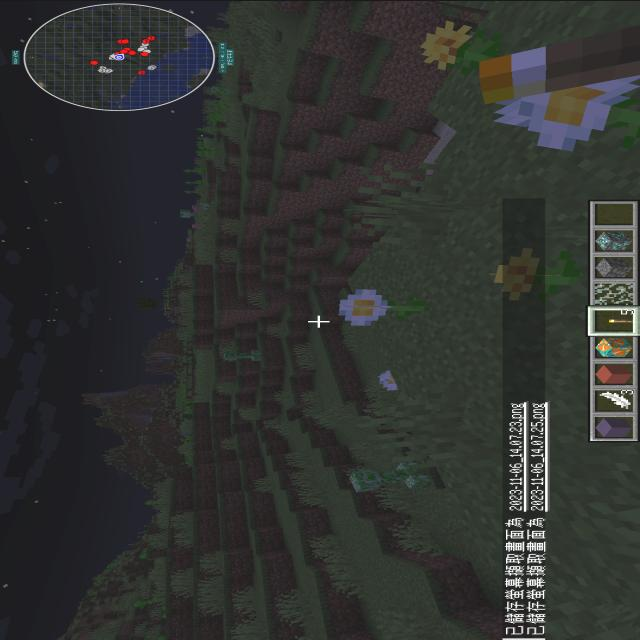Creeper: (341, 451, 441, 501), (220, 346, 270, 364), (175, 210, 209, 218)
pig: (190, 201, 207, 213), (180, 234, 196, 244), (186, 222, 203, 228)
